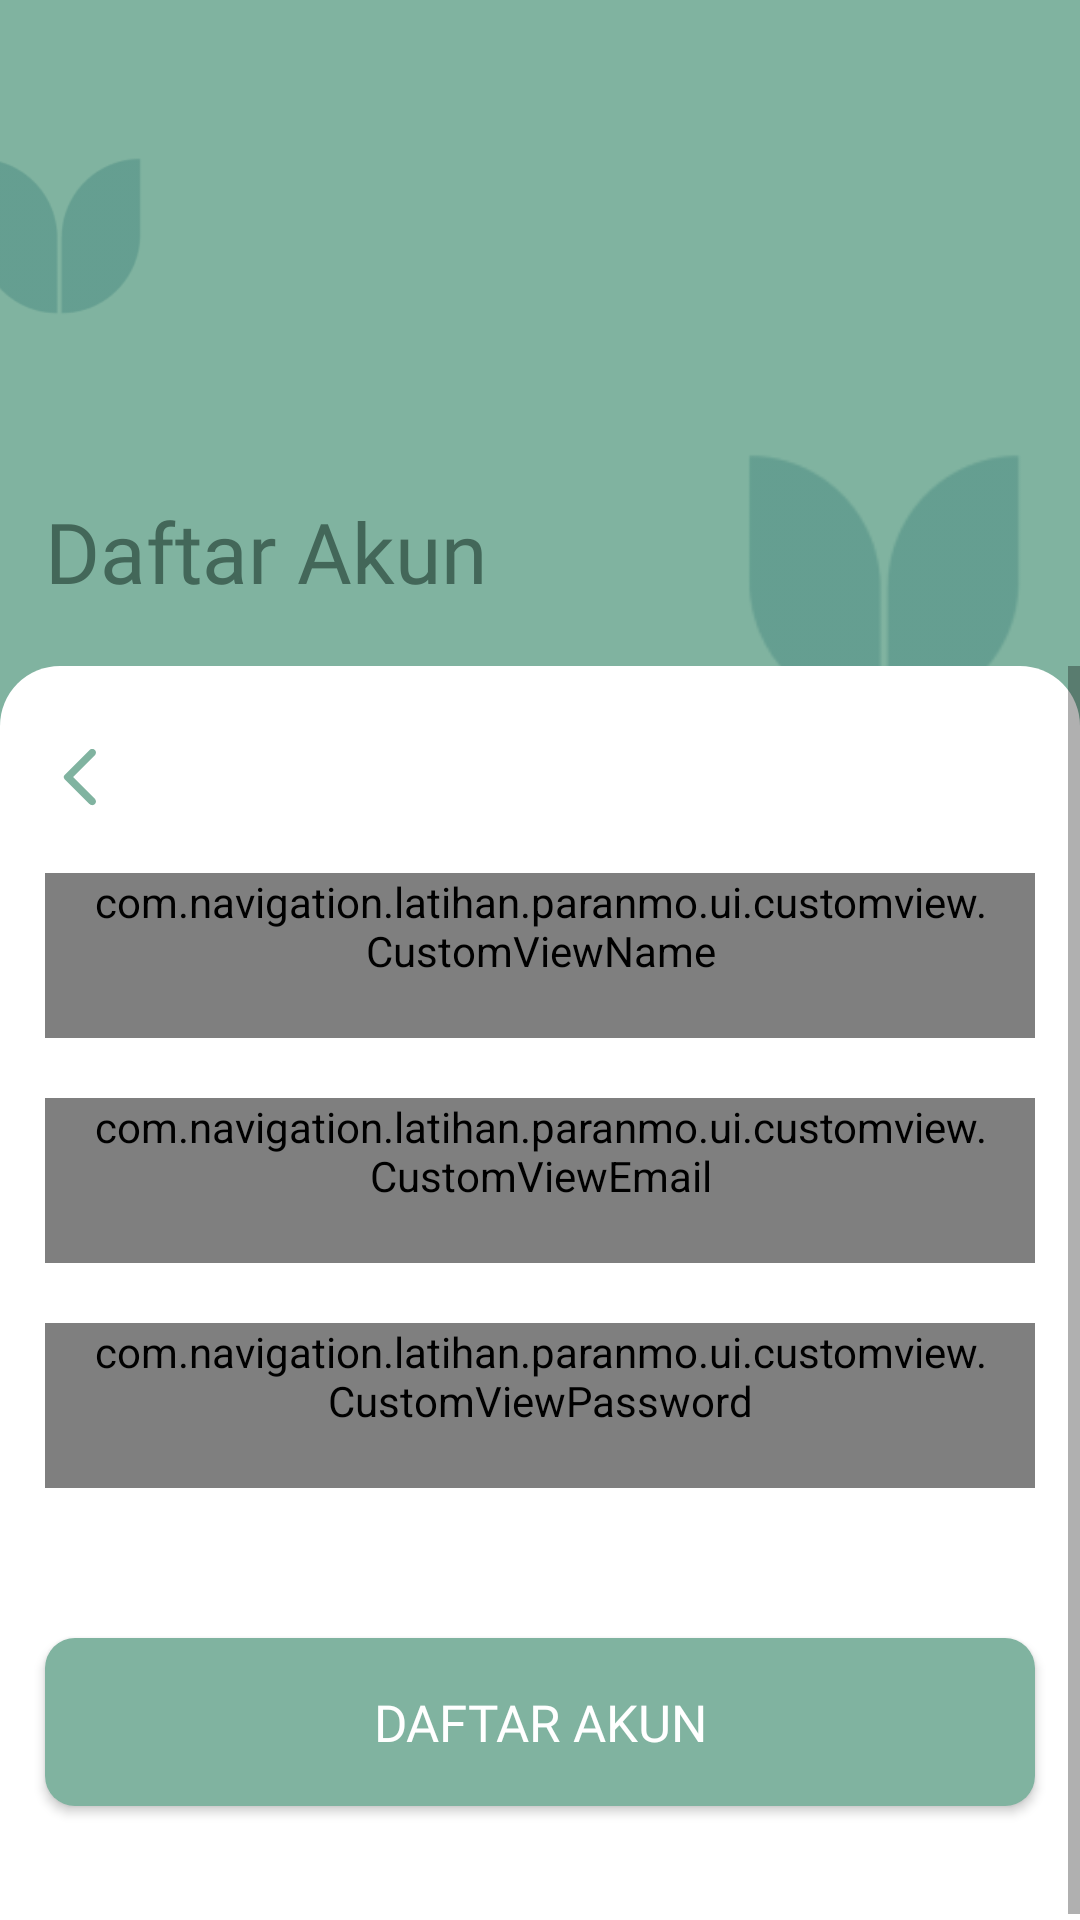

Screen size 1080px×1920px. Icon name, then its box in pixels as (x1, y1, x2, y2):
arrow back: (64, 749, 96, 805)
